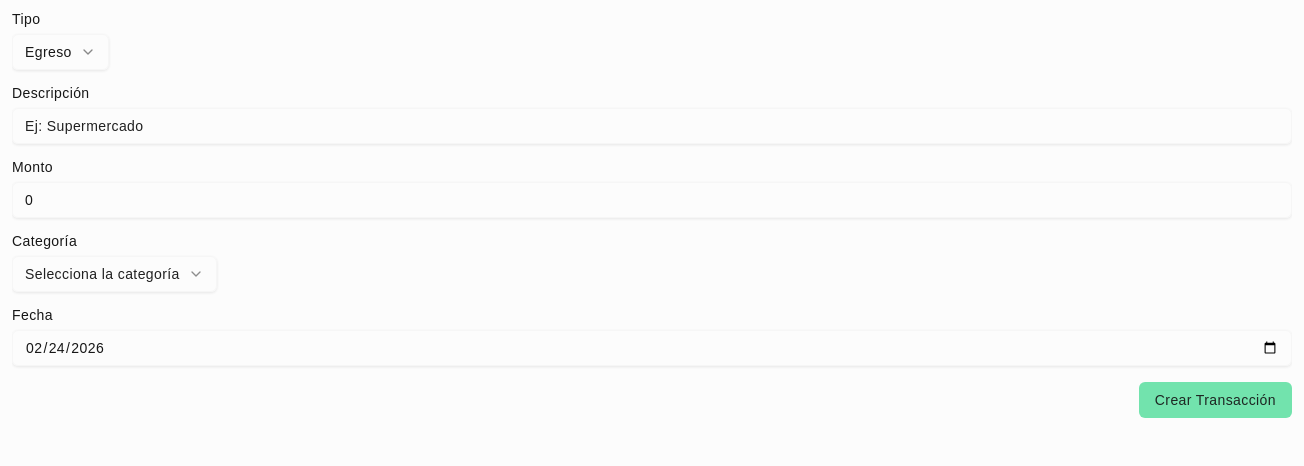
it: TransactionForm › Validación de formulario › debe mostrar error cuando la categoría no está seleccionada
The image size is (1304, 466).
Type "Test" into the field with placeholder "Ej: Supermercado".
click(652, 126); type("Test")  # box [12,108,1292,144]
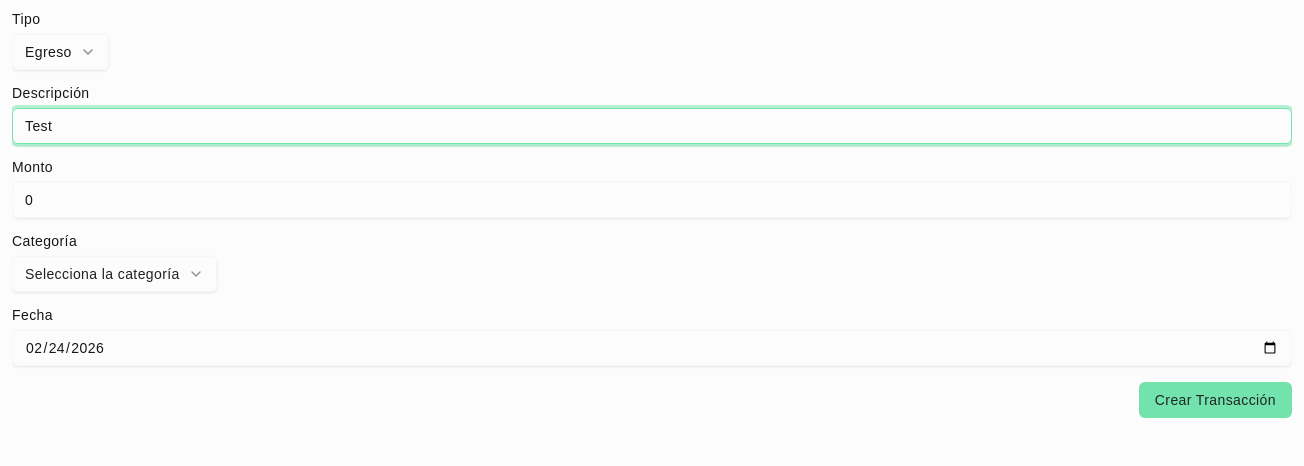
Replace the text in the number field with placeholder "0.00" with "100" at [652, 200], box [12,182,1292,218]
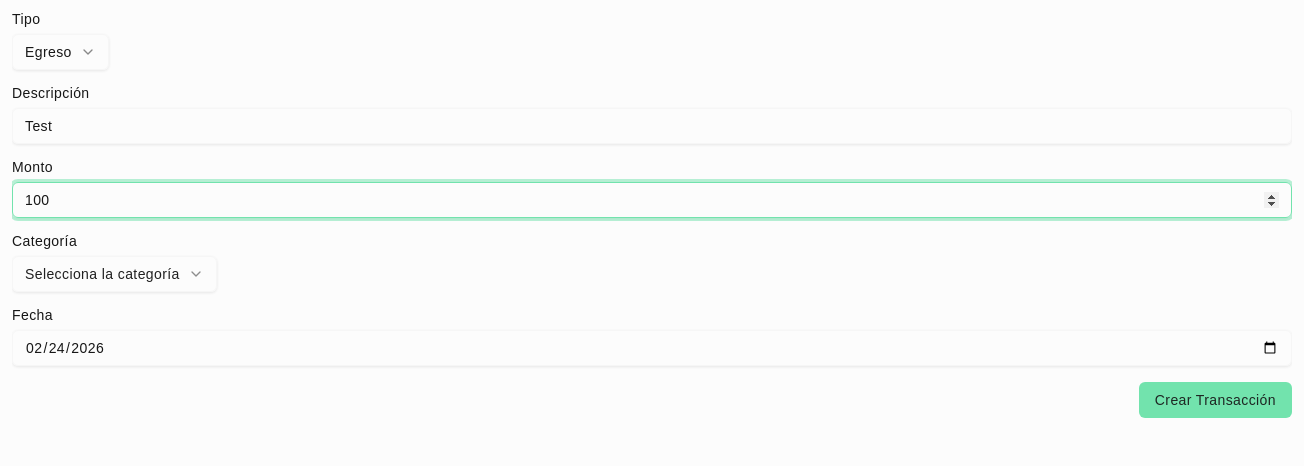
Click the button "Crear Transacción".
click(1215, 400)  # box [1139,382,1292,418]
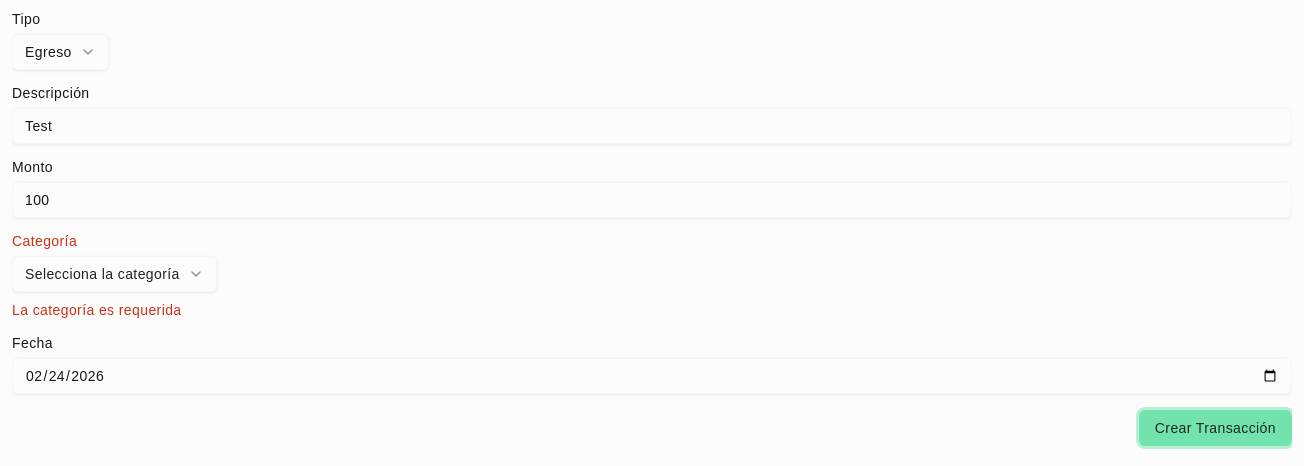
Expected: the text "La categoría es requerida" is shown, [12,302,182,318]
